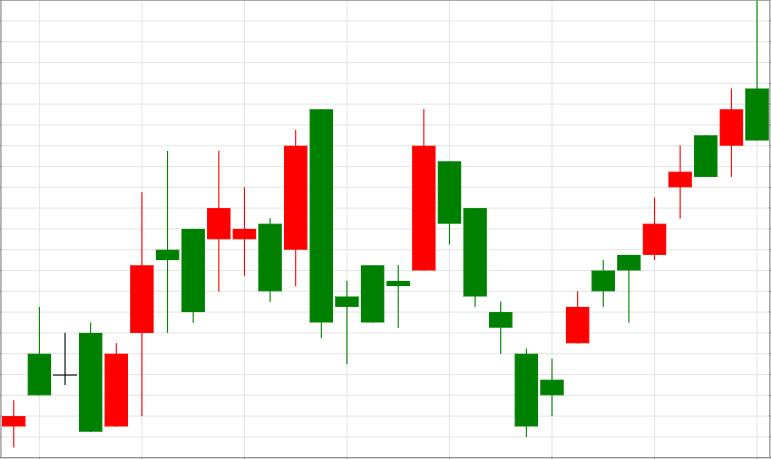bearish_engulfing_fall: (105, 109, 333, 428)
shooting_star_fall: (643, 0, 770, 261)
